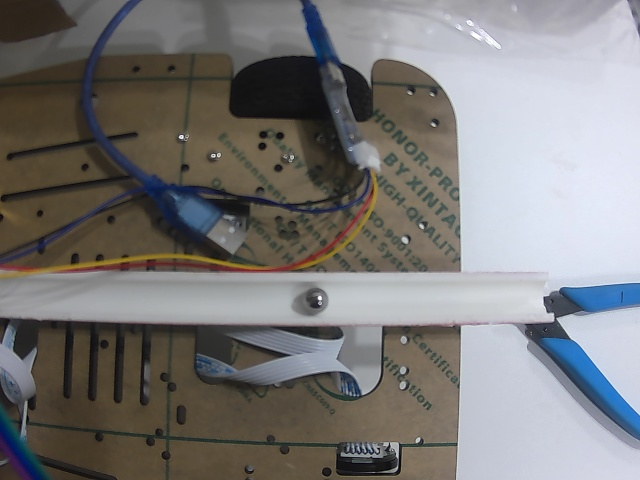steelball: (302, 287, 326, 312)
